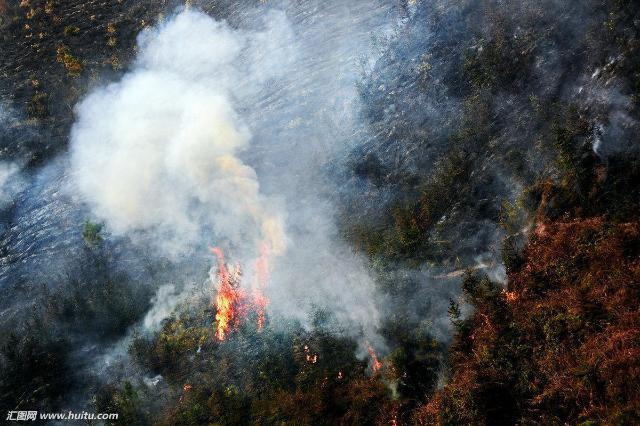fire: (214, 255, 232, 338), (233, 284, 269, 312), (253, 241, 267, 282), (366, 338, 380, 374), (254, 312, 262, 327)
